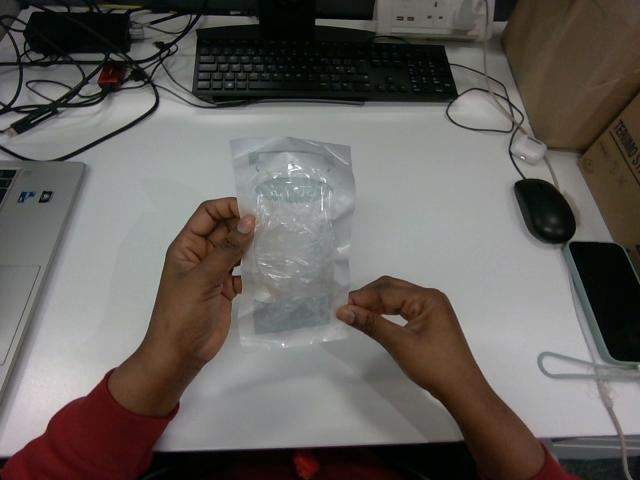gallipot: (231, 137, 354, 348)
